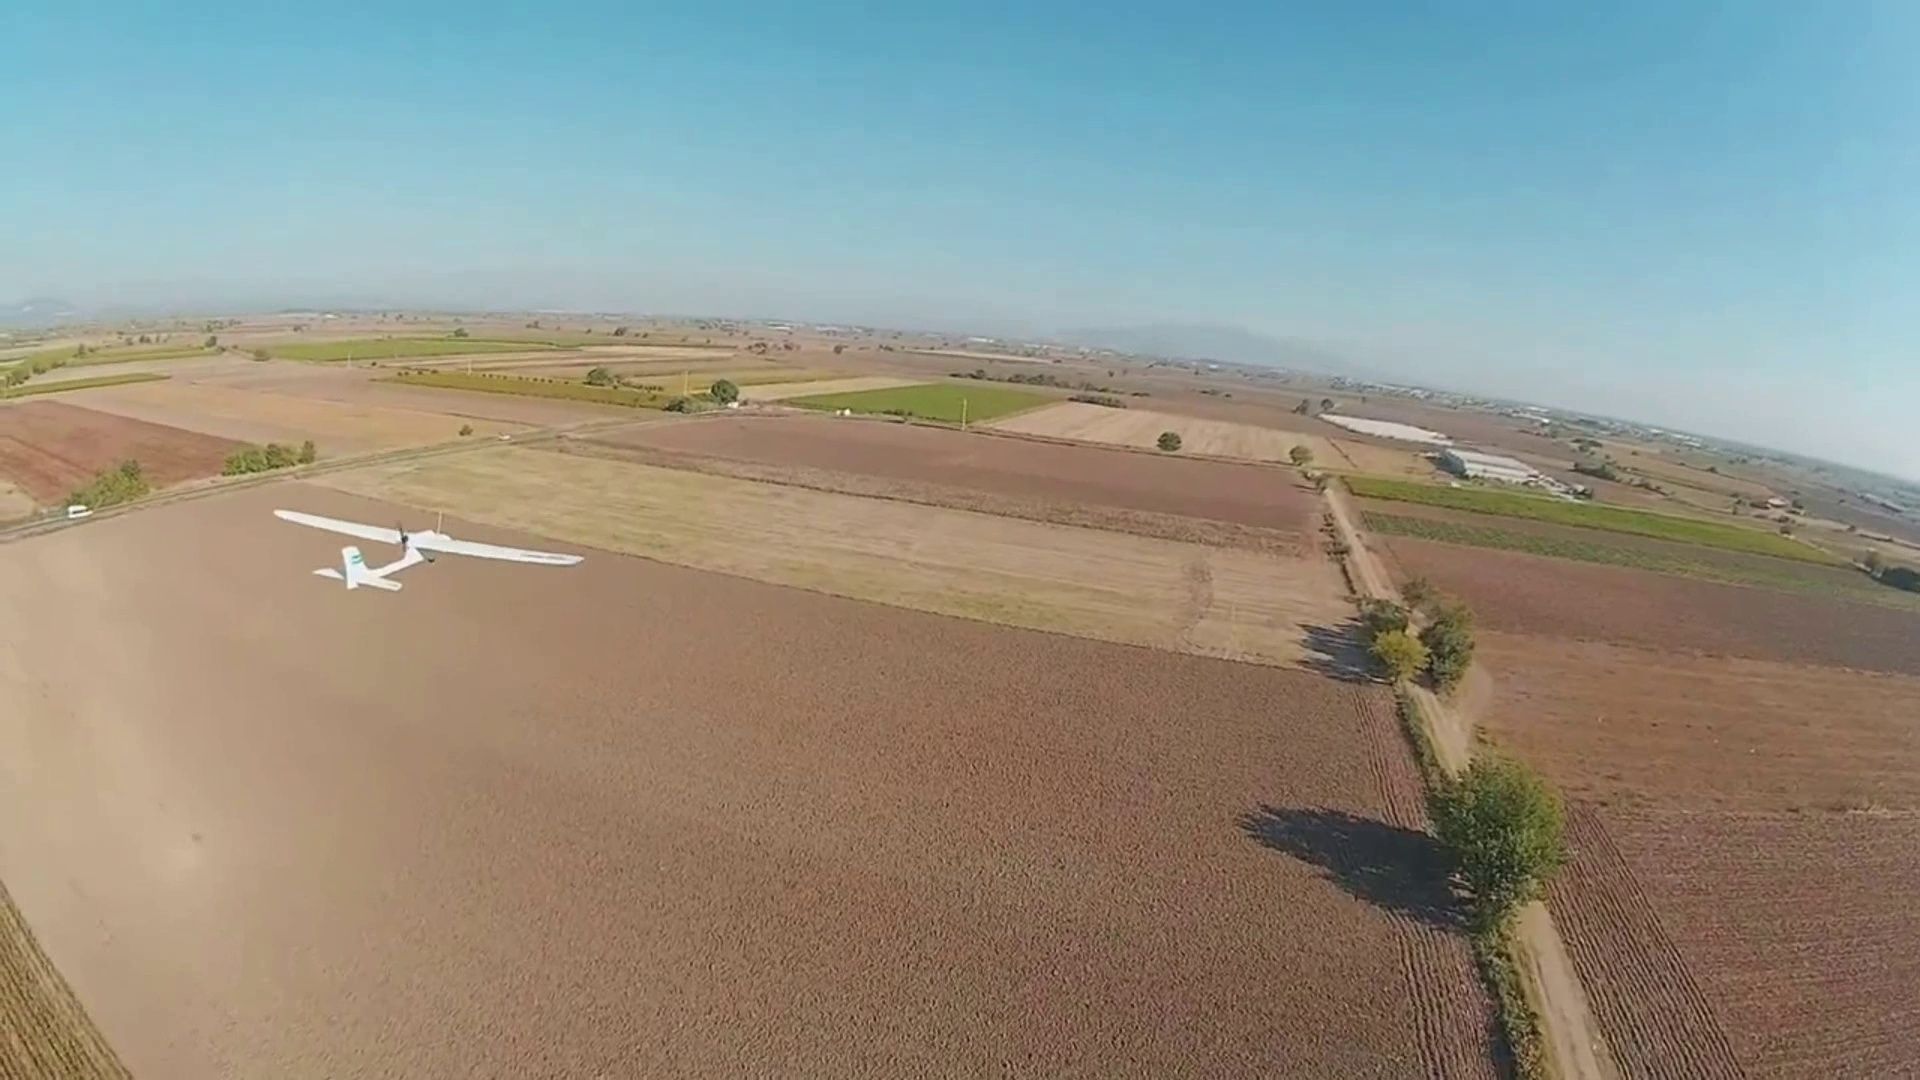airplane: (266, 497, 585, 588)
